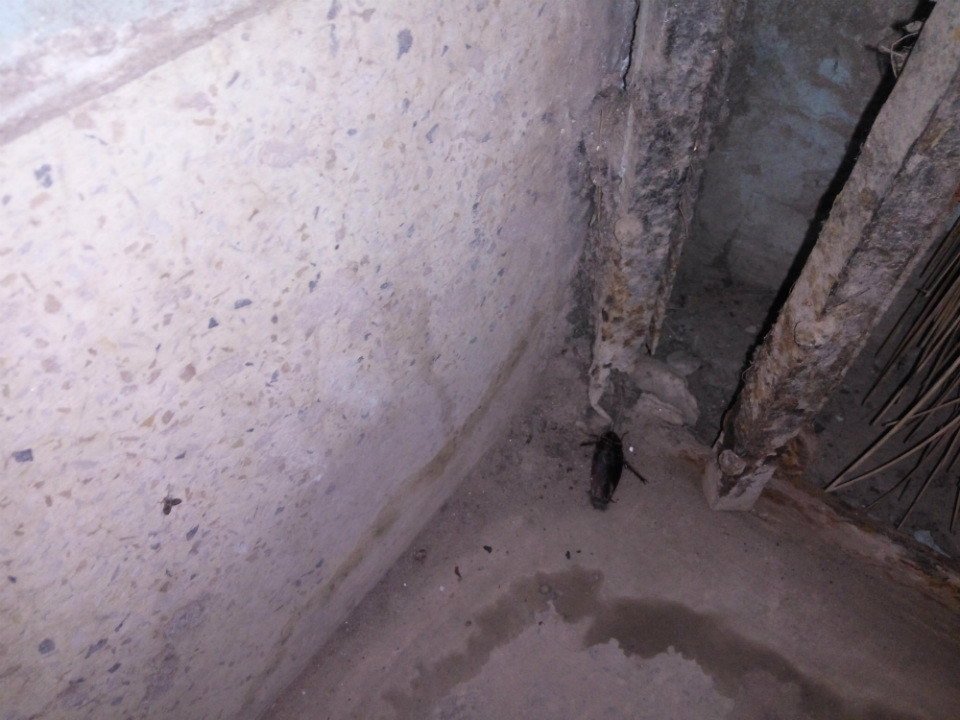cockroach: (539, 401, 669, 534)
